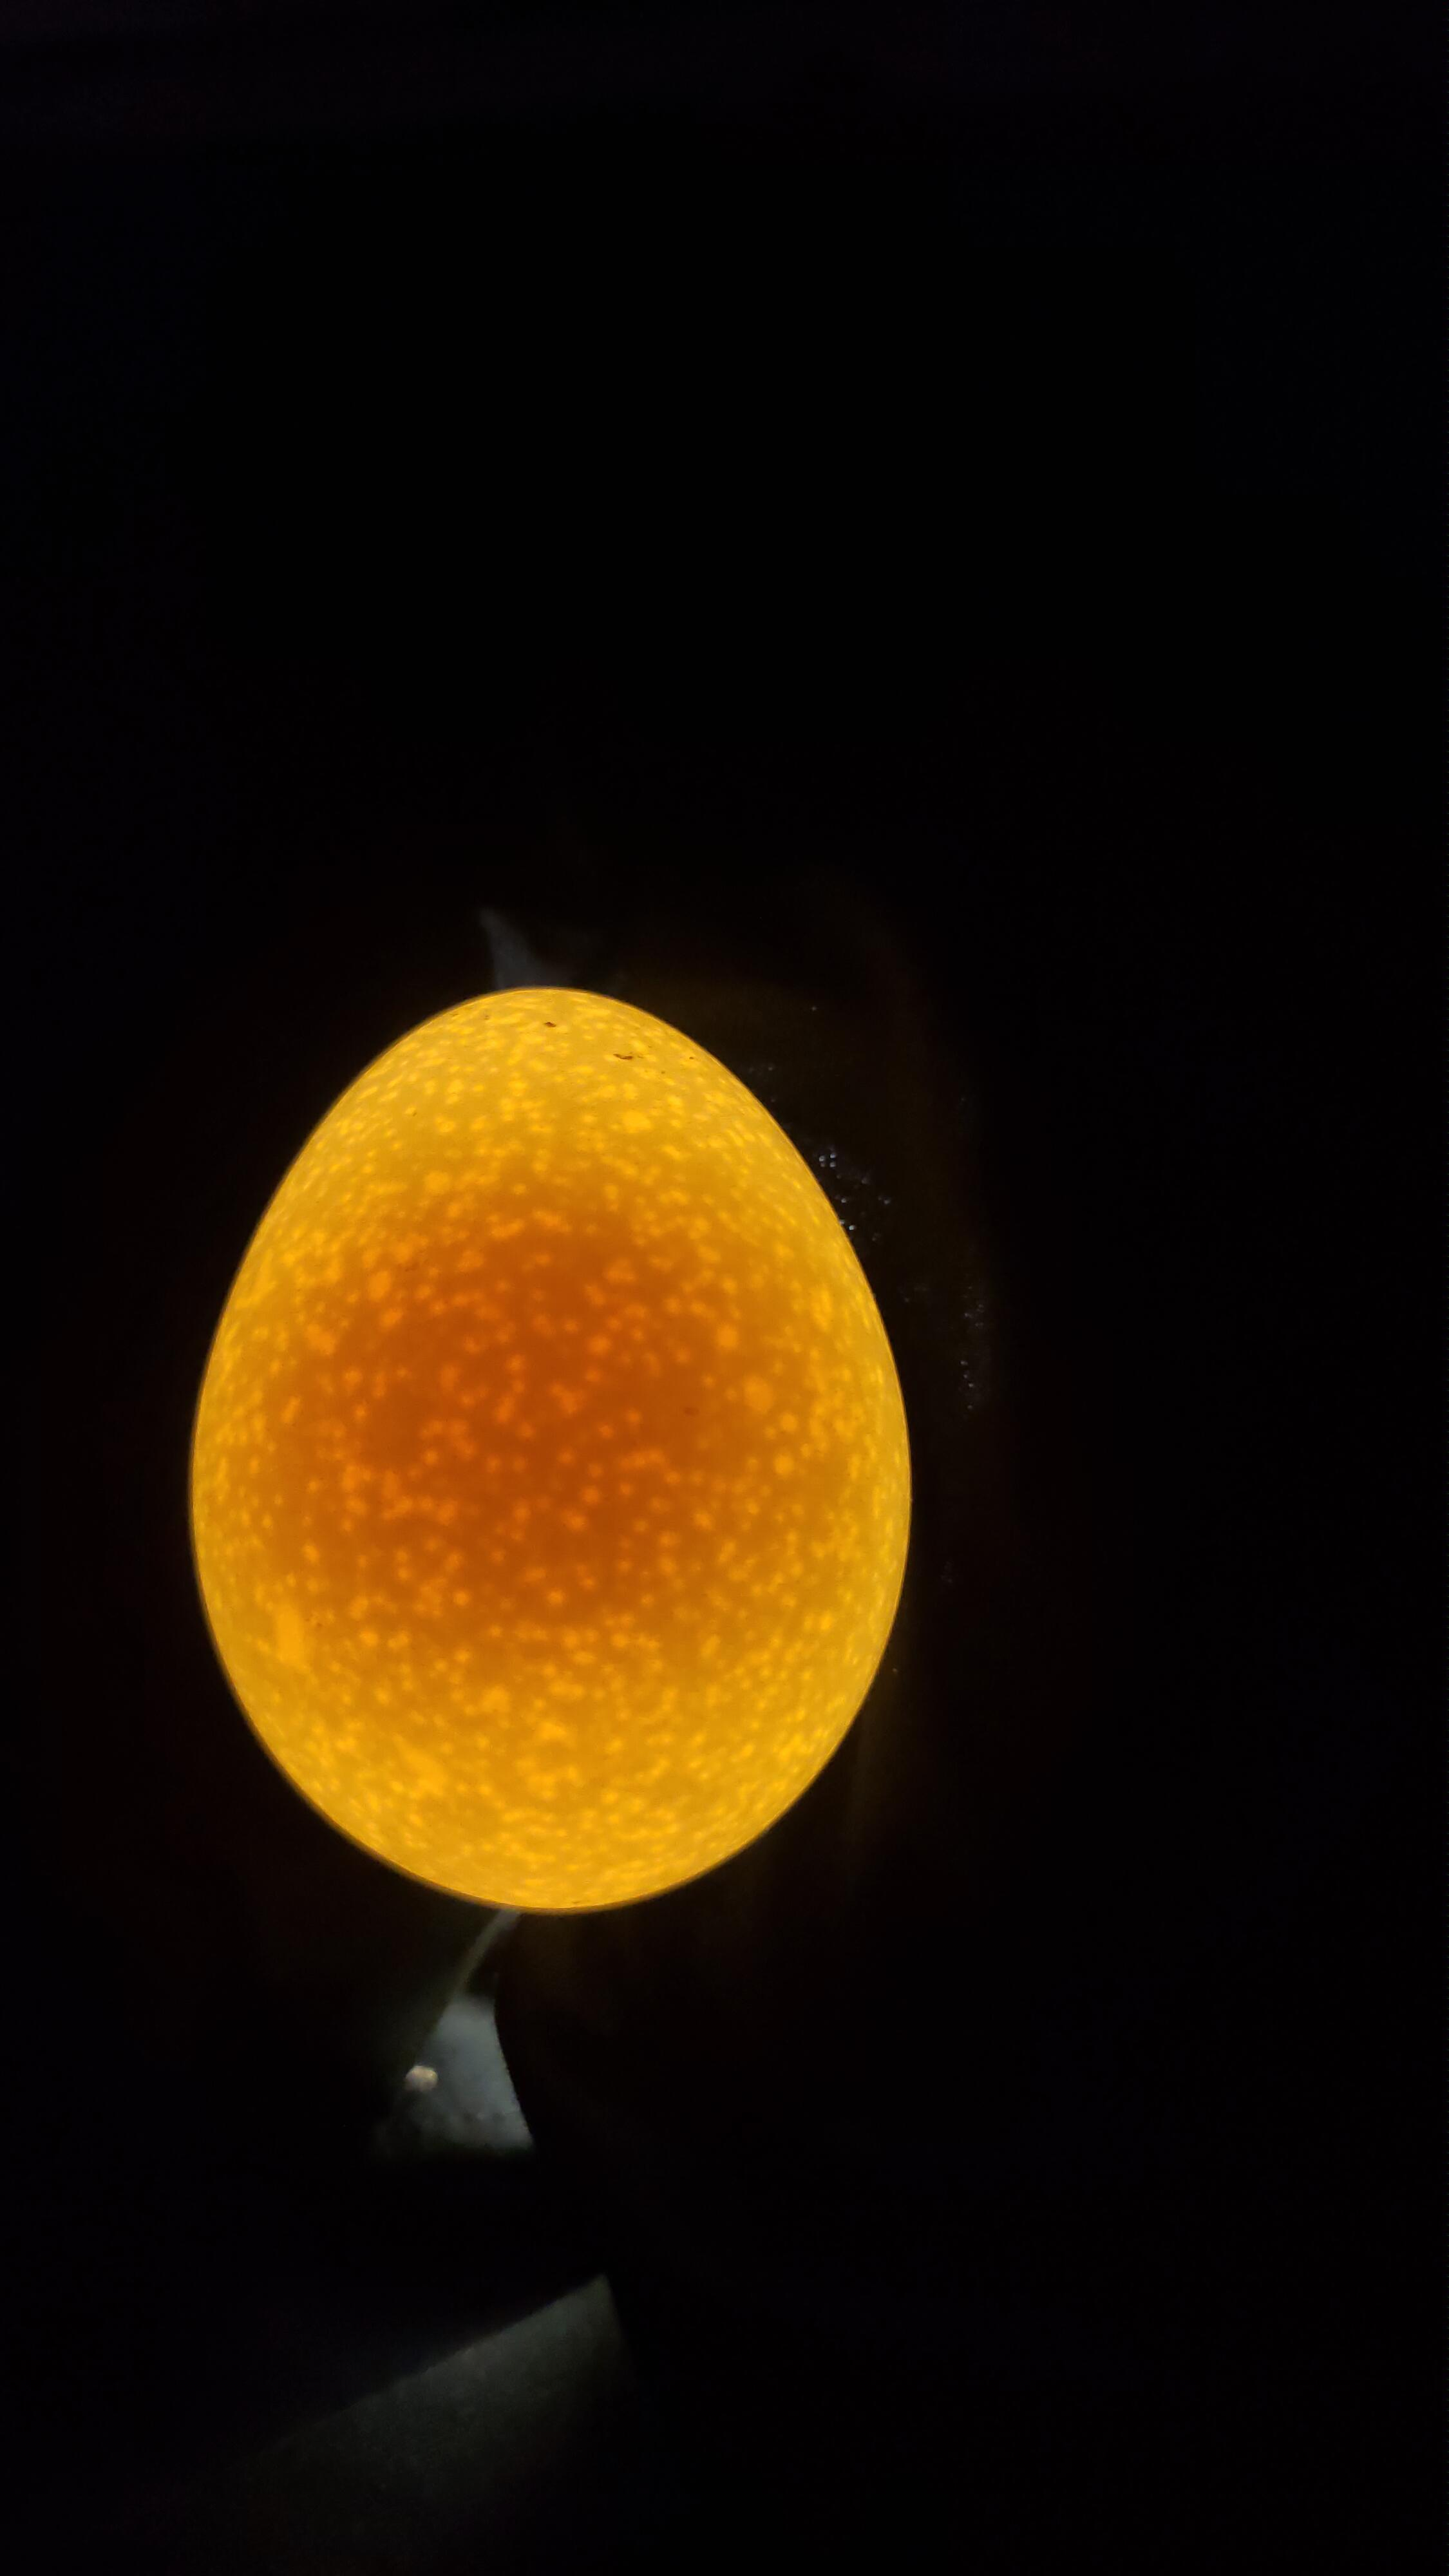A - Good: (97, 927, 978, 1983)
